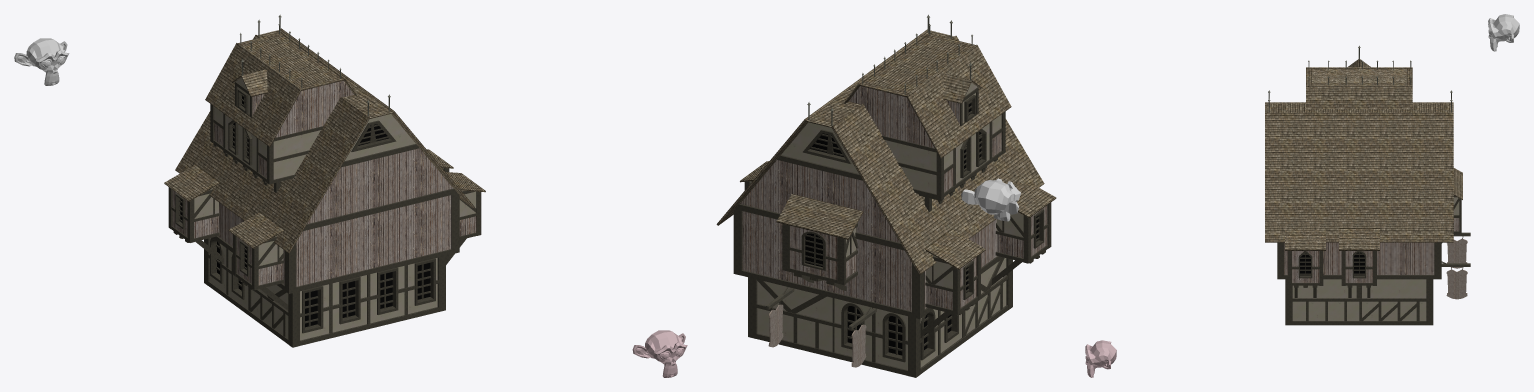
File: casa_monos.obj
The picture shows the model from 3 angles, left to right: view 1: azimuth 30°, elevation 25°; view 2: azimuth 150°, elevation 25°; view 3: azimuth 270°, elevation 25°; orthographic projection. The views are drawn at different scales.
Parts seen in each view (by area): view 1: Medieval_building, Suzanne, Suzanne.001; view 2: Medieval_building, Suzanne; view 3: Medieval_building, Suzanne.001, Suzanne.
Part boxes in pixels (x1,y1,x2,y2): Medieval_building: (164,14,485,347); Suzanne: (14,38,69,85); Suzanne.001: (632,330,687,377); Medieval_building: (716,14,1056,377); Suzanne: (961,178,1020,221); Medieval_building: (1265,45,1470,325); Suzanne.001: (1085,340,1116,377); Suzanne: (1488,14,1519,51).
Size of the model in its own units: 7.57 by 4.48 by 7.95.
22 materials, 20 textured.
